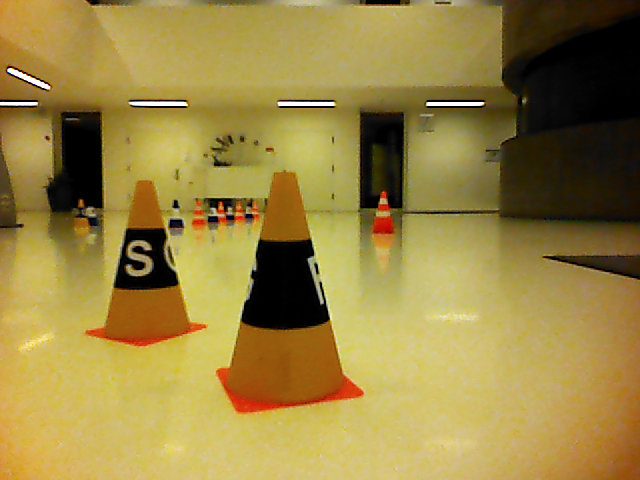yellowcone: (228, 172, 347, 403), (103, 180, 192, 339)
